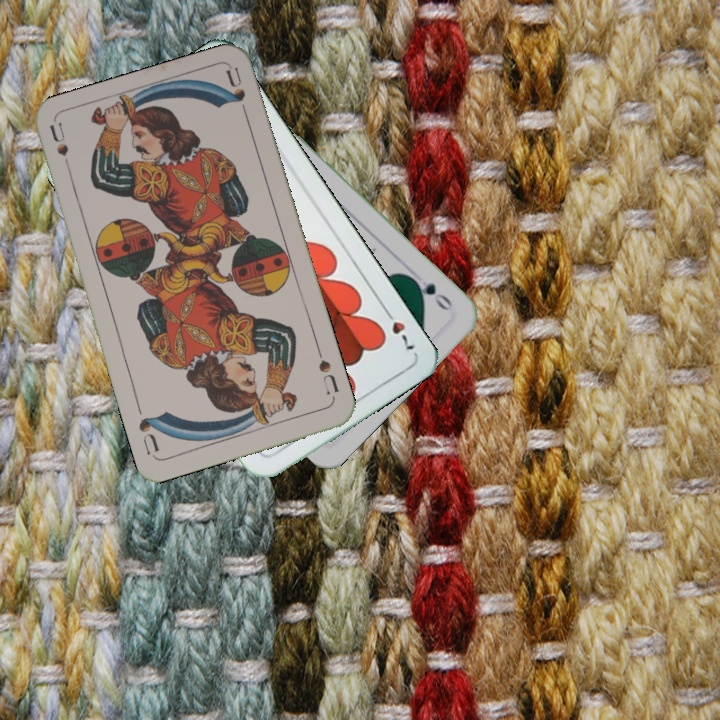GO: (406, 272, 455, 313)
H7: (379, 303, 420, 356)
SU: (45, 120, 75, 179), (313, 344, 342, 397)
